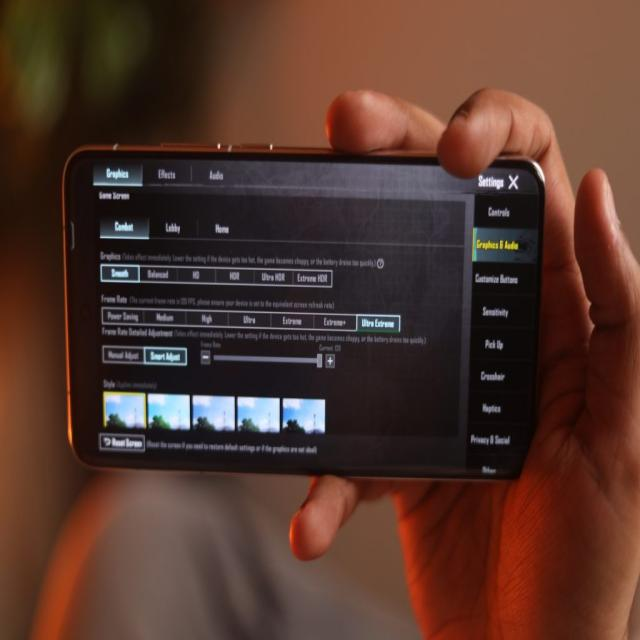mobile_phone: (44, 160, 549, 496)
